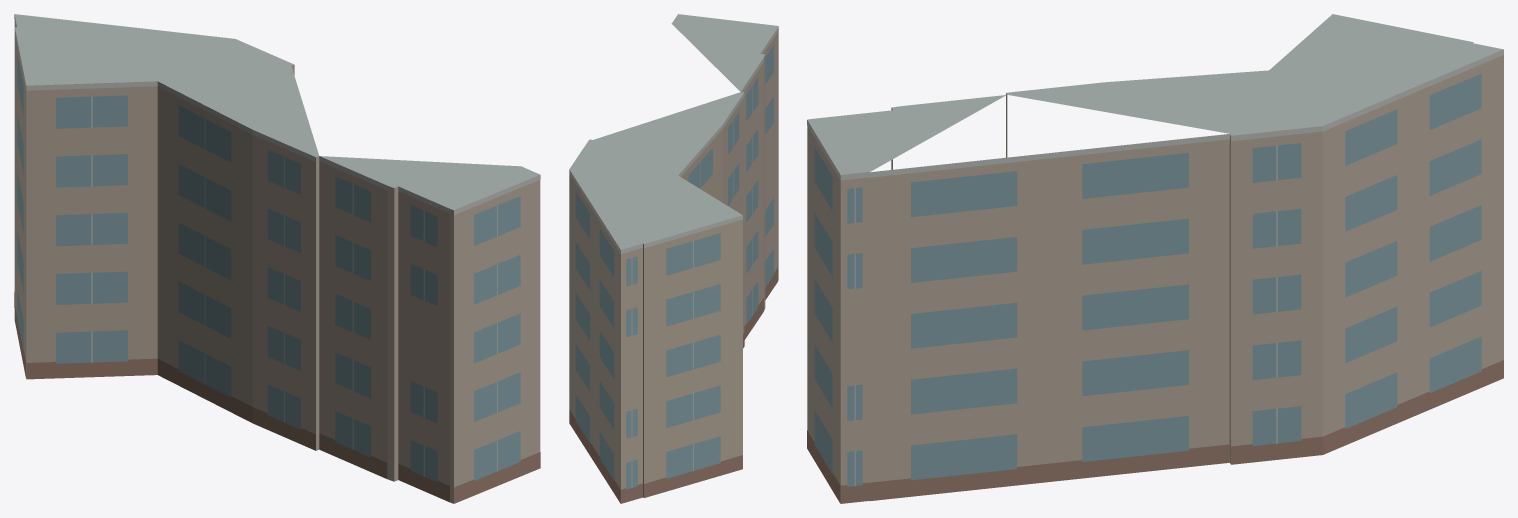
The model's file is survey-upis-33007035.glb.
3 views of the same model, side by side, from view 1: azimuth 30°, elevation 25°; view 2: azimuth 150°, elevation 25°; view 3: azimuth 270°, elevation 25° (orthographic). The views are drawn at different scales.
Parts seen in each view (by area): view 1: survey-upis-33007035.tmp; view 2: survey-upis-33007035.tmp; view 3: survey-upis-33007035.tmp.
Part boxes in pixels (x1,y1,x2,y2): survey-upis-33007035.tmp: (14,14,540,503); survey-upis-33007035.tmp: (569,14,778,503); survey-upis-33007035.tmp: (807,14,1503,503).
Size of the model in its own units: 15.34 by 14.6 by 28.04.
